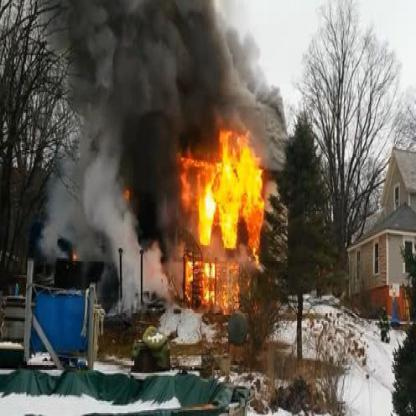fire: (214, 129, 262, 199), (195, 192, 215, 244), (243, 198, 261, 251), (220, 200, 238, 249), (196, 164, 216, 192), (180, 162, 191, 206), (203, 262, 214, 300), (184, 260, 192, 288)
